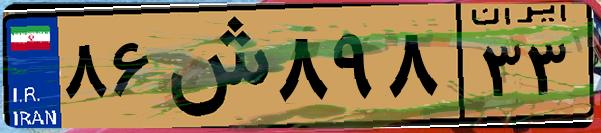3: (475, 38, 525, 113), (525, 38, 570, 115)
6: (110, 28, 158, 98)
8: (270, 28, 330, 110), (385, 28, 445, 110), (57, 26, 110, 100)
9: (330, 28, 385, 110)
ش: (158, 12, 270, 120)
